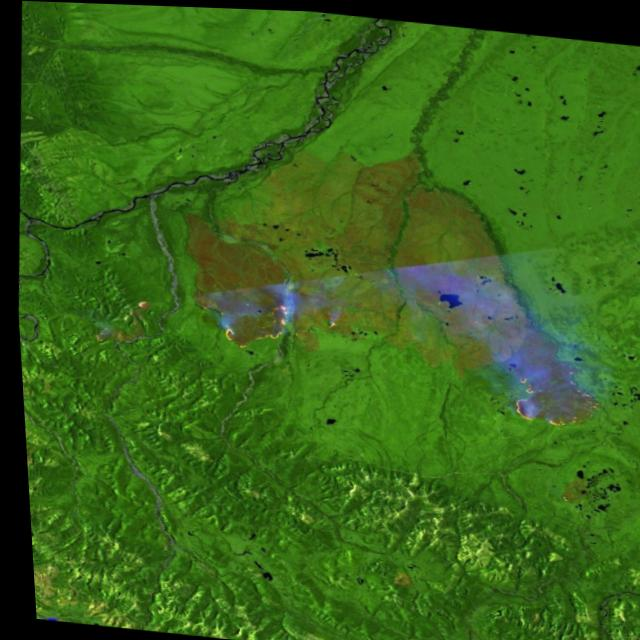fire: (214, 292, 292, 355), (126, 292, 154, 312)
